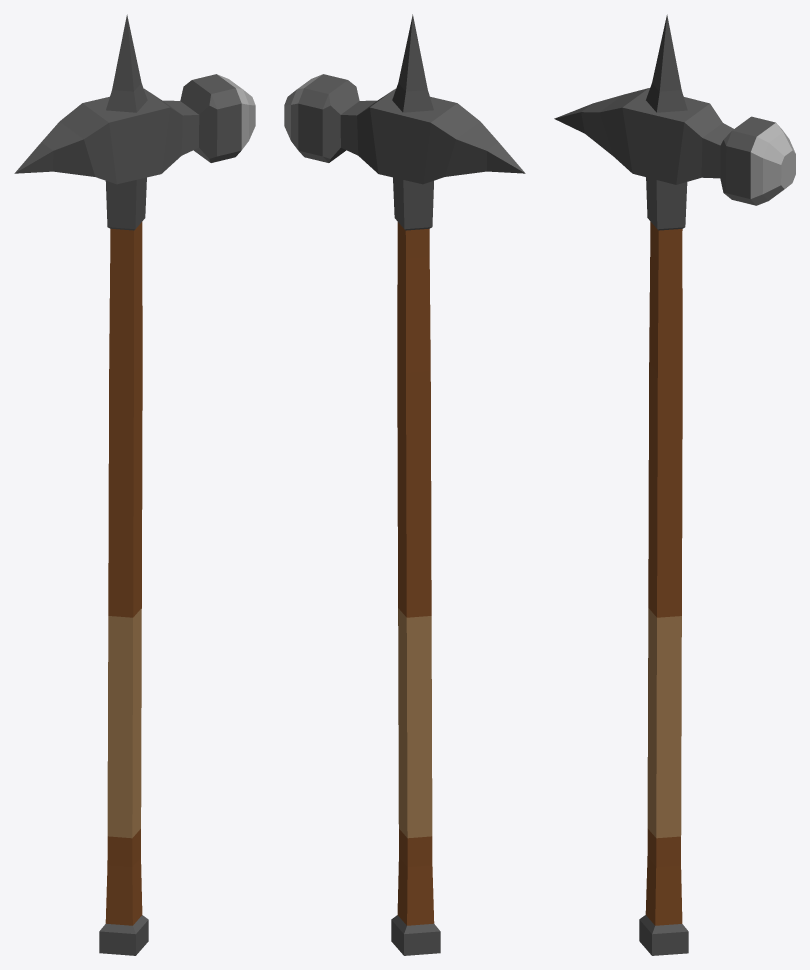
Rendered from Low Poly Weapon Pack - by Kickin It Studios.fbx_War_Hammer.glb.
3 renders of one model, left to right at view 1: azimuth 30°, elevation 25°; view 2: azimuth 150°, elevation 25°; view 3: azimuth 330°, elevation 25°, orthographic.
Visible parts, largest first — view 1: War Hammer; view 2: War Hammer; view 3: War Hammer.
Boxes of the visible parts, x1,y1,x2,y2 form: War Hammer: (14, 14, 255, 955); War Hammer: (284, 14, 525, 955); War Hammer: (554, 14, 795, 955).
Size of the model in its own units: 0.354 by 1.35 by 0.0817.
